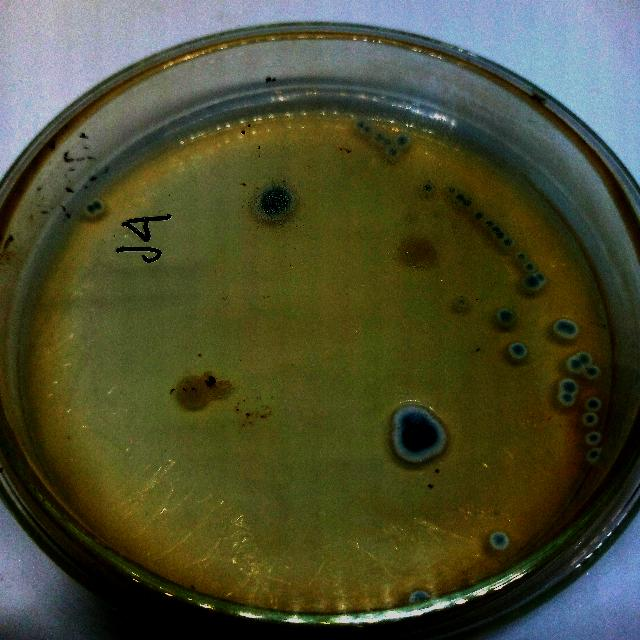colony: (392, 405, 451, 465), (395, 232, 443, 276), (254, 181, 298, 225), (171, 374, 215, 414), (553, 315, 581, 343), (486, 530, 514, 556), (408, 587, 434, 605), (558, 376, 580, 396), (496, 307, 516, 327), (586, 446, 604, 466), (523, 274, 541, 292), (509, 342, 527, 360), (566, 356, 584, 374), (582, 411, 600, 429), (90, 196, 108, 214), (558, 392, 578, 408), (584, 396, 604, 412), (583, 364, 601, 381), (576, 351, 594, 367), (586, 429, 602, 446), (82, 202, 98, 218), (396, 133, 410, 149), (386, 146, 399, 160), (422, 182, 434, 194), (362, 124, 373, 136), (355, 120, 367, 130), (462, 197, 472, 209), (515, 252, 527, 262), (525, 261, 535, 273), (536, 273, 548, 283), (375, 132, 385, 142), (382, 138, 392, 148), (455, 192, 465, 202), (491, 225, 501, 235), (504, 238, 514, 248), (448, 185, 457, 195), (474, 212, 484, 220), (484, 220, 494, 228), (496, 230, 504, 240)
